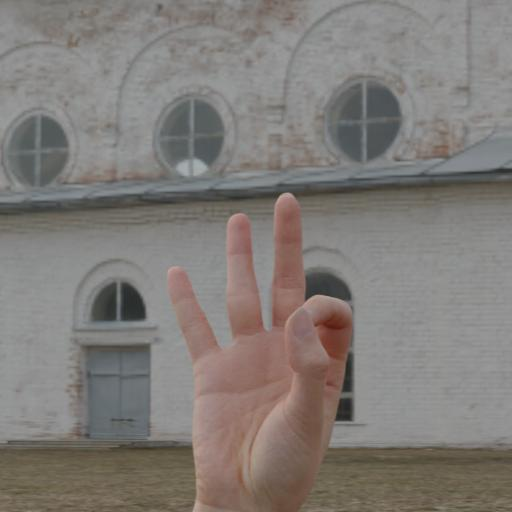F: (137, 163, 375, 504)
